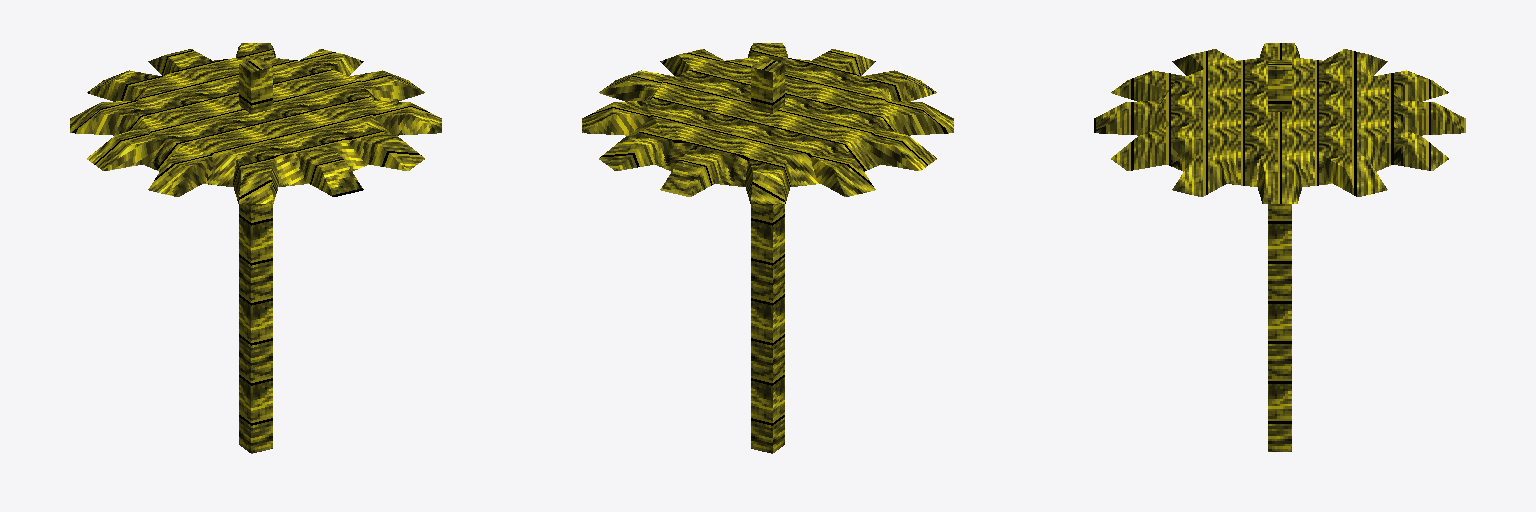
3 renders of one model, left to right at view 1: azimuth 30°, elevation 25°; view 2: azimuth 150°, elevation 25°; view 3: azimuth 270°, elevation 25°, orthographic.
Parts seen in each view (by area): view 1: NewStoneCogEdit; view 2: NewStoneCogEdit; view 3: NewStoneCogEdit.
Part boxes in pixels (left/top/right/bottom): NewStoneCogEdit: left=70, top=43, right=441, bottom=453; NewStoneCogEdit: left=582, top=43, right=953, bottom=453; NewStoneCogEdit: left=1094, top=43, right=1465, bottom=451.
Bounding box in the file's own units: 21973 × 24891 × 21973.
Materials: 1 (1 with a texture image).